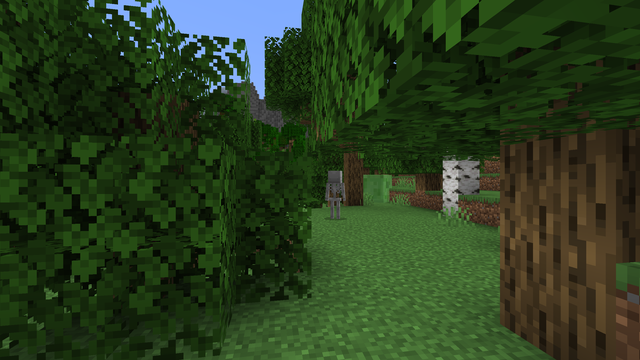slimes: (363, 173, 393, 202)
squelettes: (326, 170, 343, 219)
